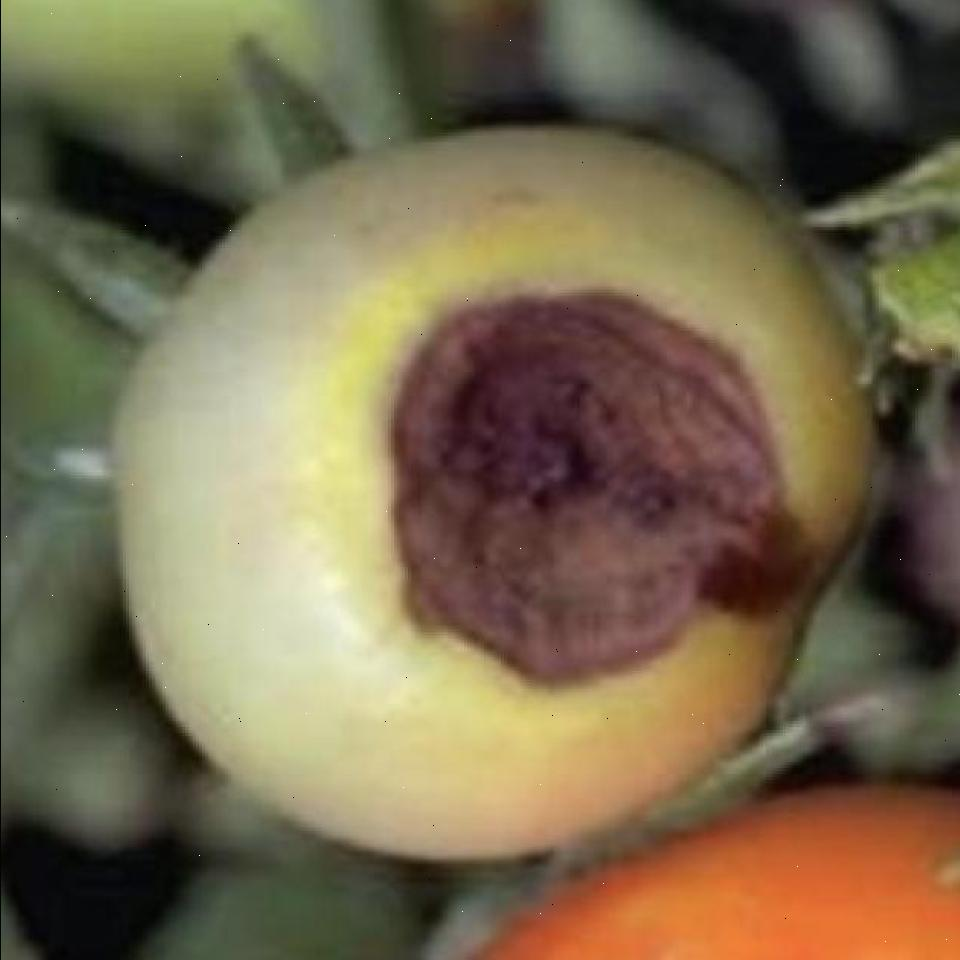Blossom_end_rot: (371, 280, 810, 692)
